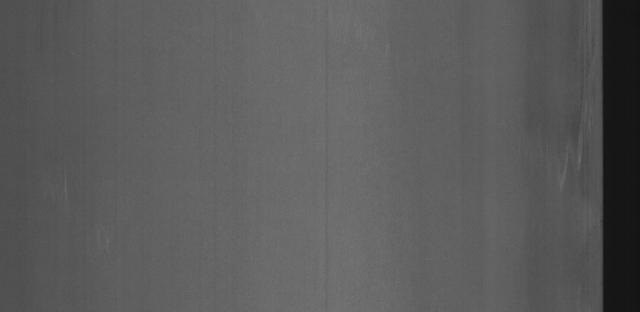silk_spot: (548, 38, 596, 195)
